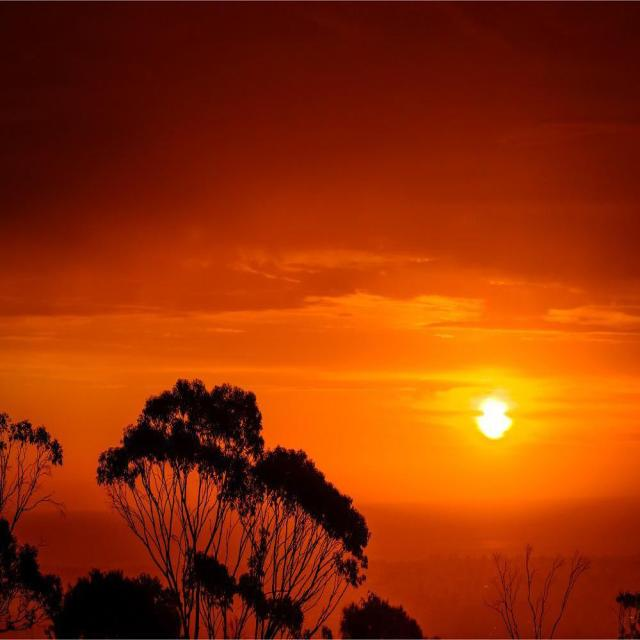other: (434, 359, 549, 475)
